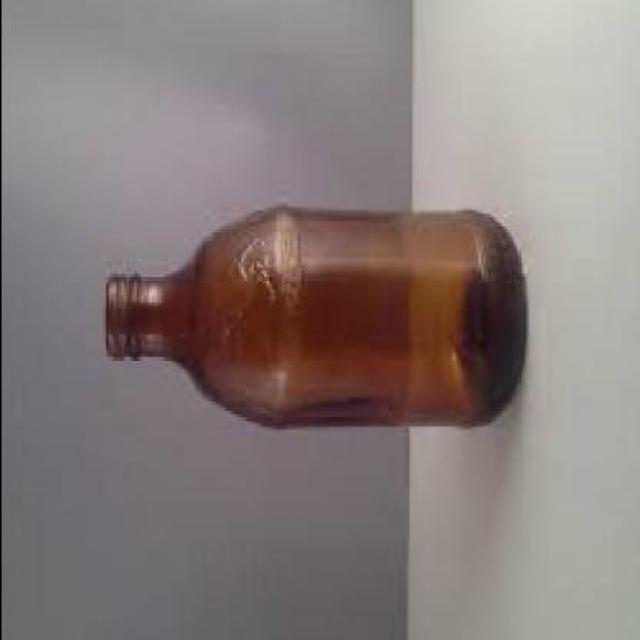GLASS: (102, 214, 523, 429)
